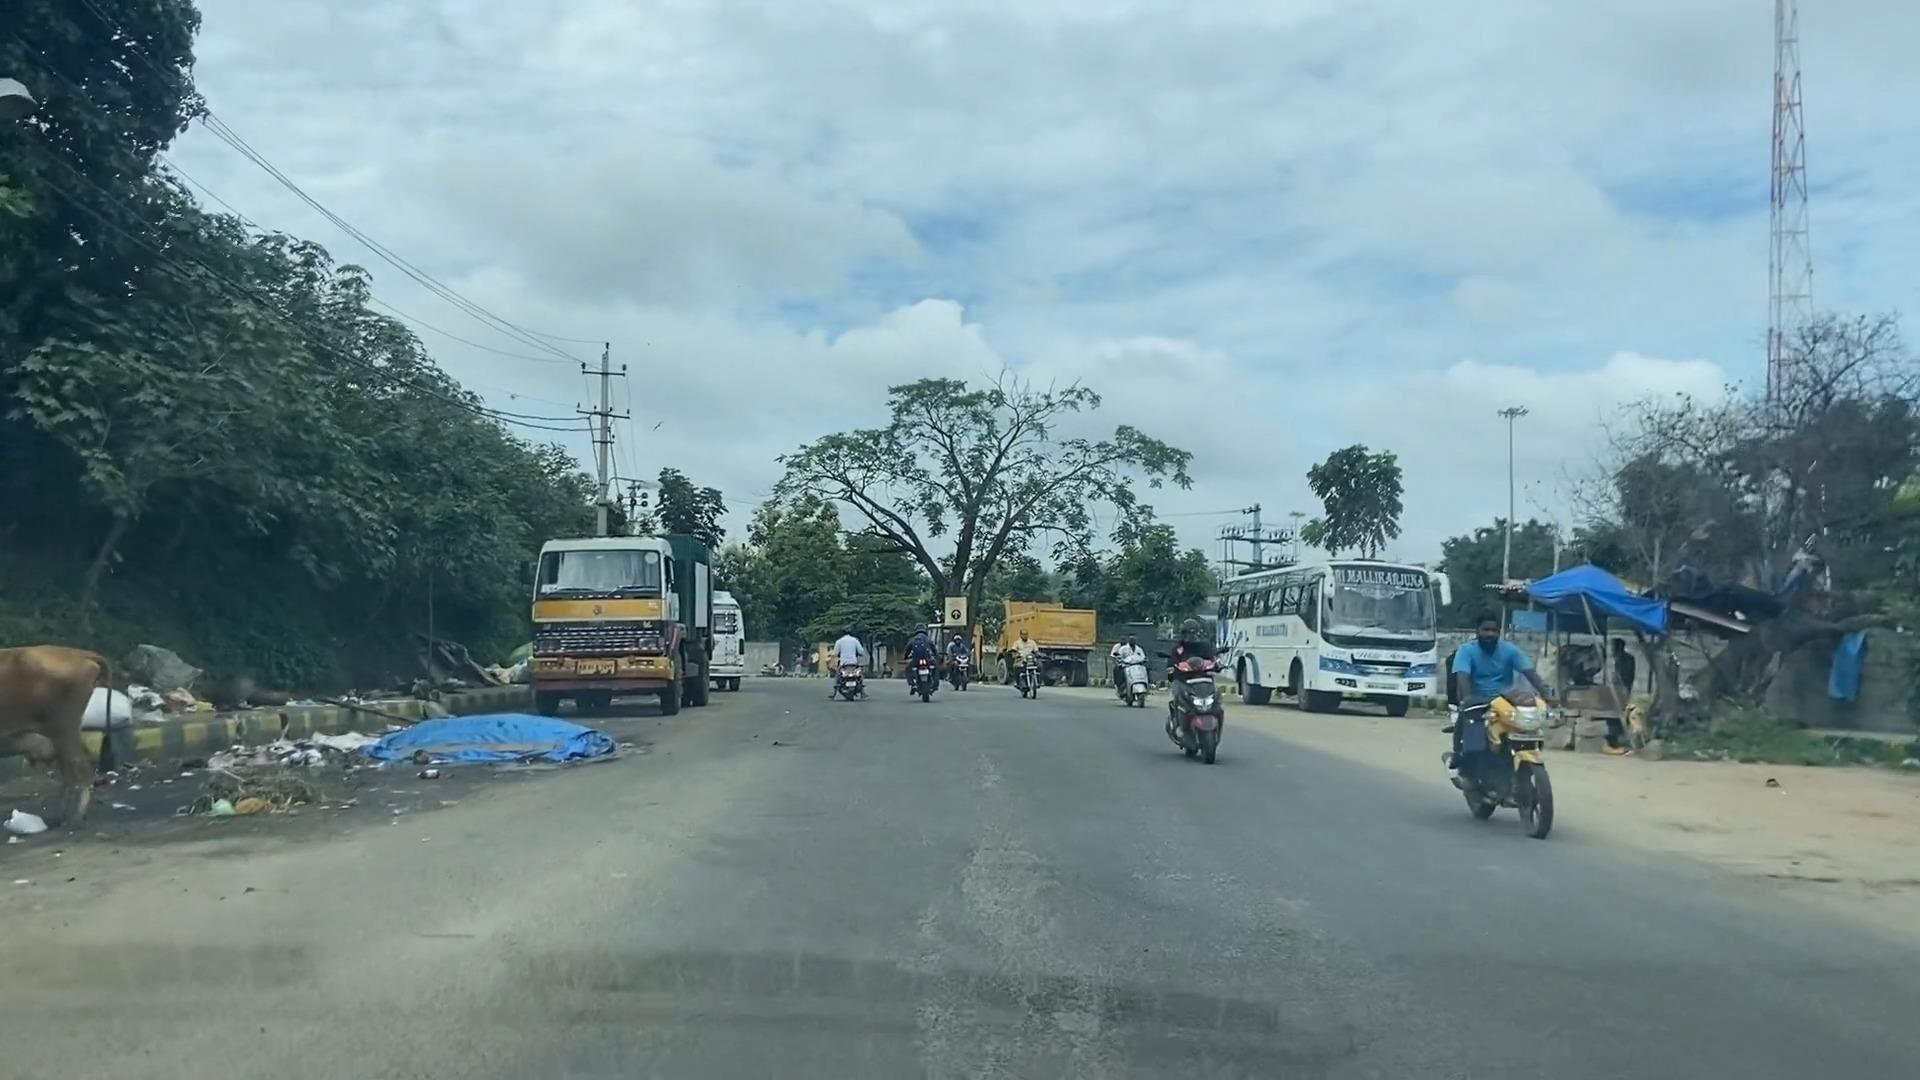HMV: (522, 522, 744, 733), (1209, 551, 1445, 720), (975, 587, 1114, 703)
LMV: (1415, 582, 1576, 851), (884, 549, 980, 773), (1149, 604, 1240, 761), (811, 601, 885, 736), (997, 618, 1047, 705), (1101, 620, 1146, 707)
RoadDamages: (914, 815, 1160, 1014)
